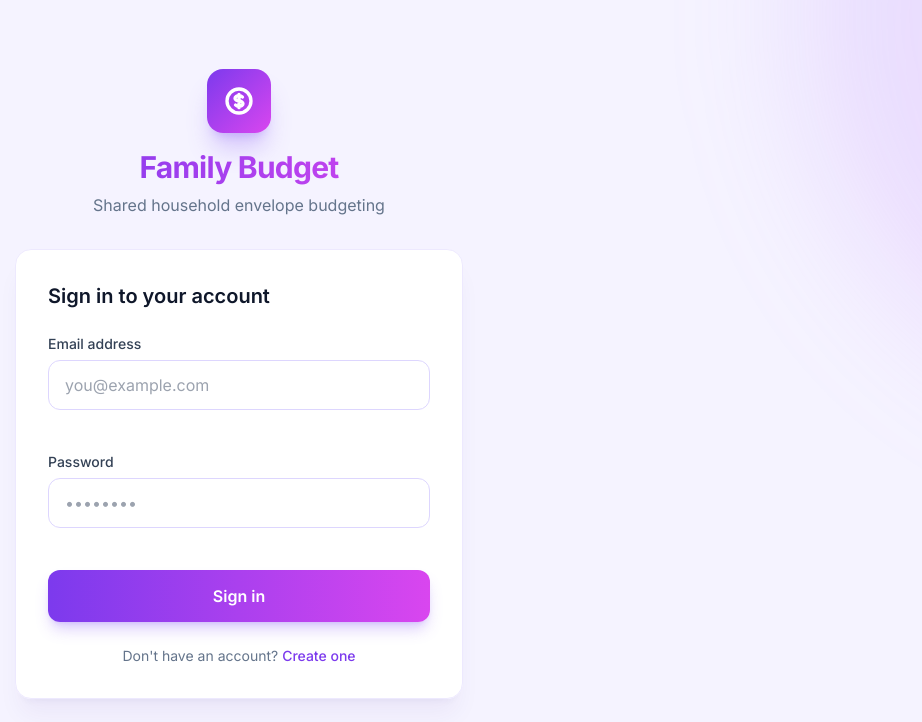
Test case: LoginPageComponent › renders the sign-in form and validates required fields
The image size is (922, 722).
Expected: the field with id "login-email" is shown, top-left (48, 360), bottom-right (430, 410)
Expected: the password field with id "login-password" is shown, top-left (48, 478), bottom-right (430, 528)
Click the submit button at [239, 596], box top-left (48, 570), bottom-right (430, 622)
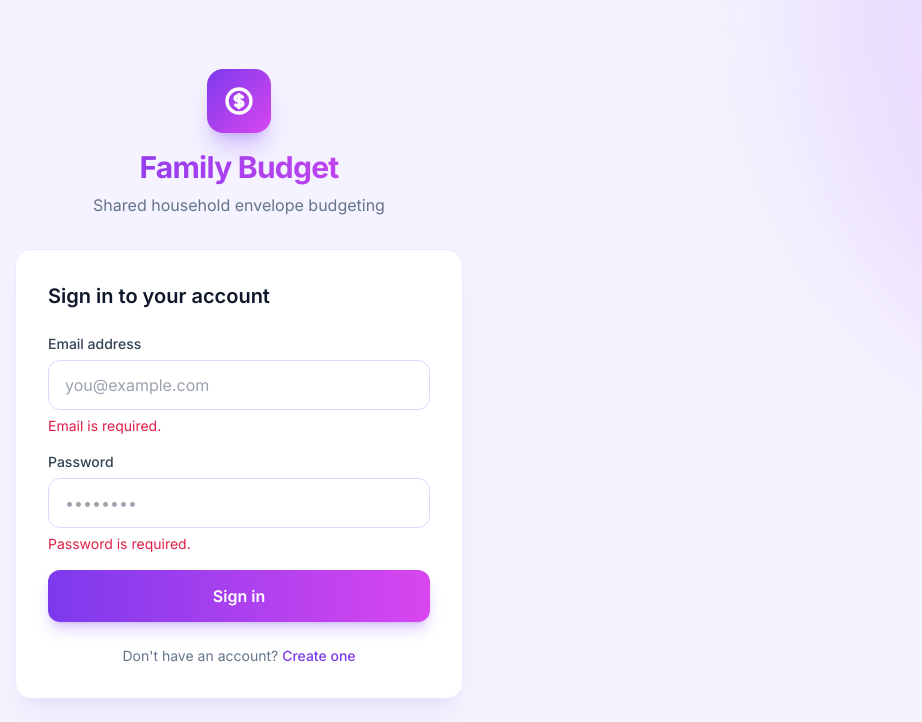
Expected: the text "Email is required." is shown, top-left (48, 417), bottom-right (161, 434)
Expected: the text "Password is required." is shown, top-left (48, 535), bottom-right (191, 552)
